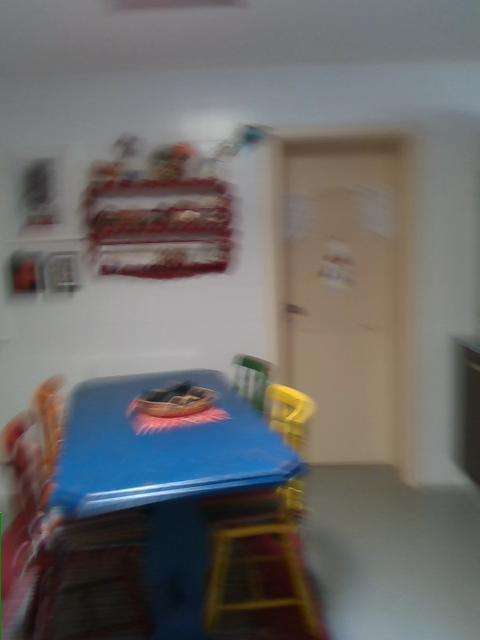door: (286, 143, 393, 466)
